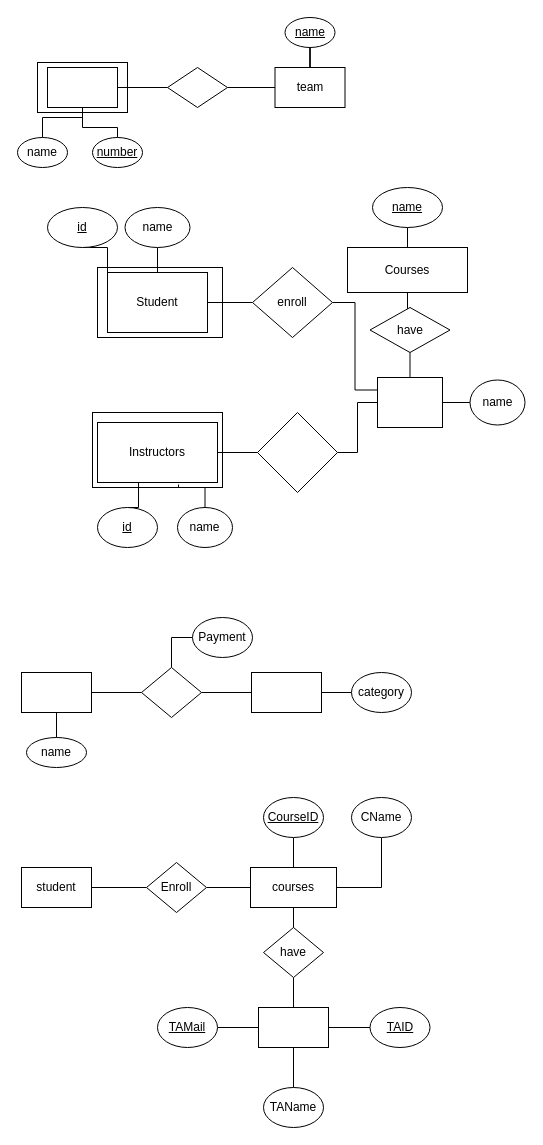
This 543x1145 diagram has some shape labels left out. The centre of each missing label's shape, as x and y in pixels:
gives: pixel 297 452
members: pixel 56 692
player: pixel 82 87
plays in: pixel 197 87
Rent: pixel 171 692
Sections: pixel 409 402
TA: pixel 293 1027
videos: pixel 286 692
